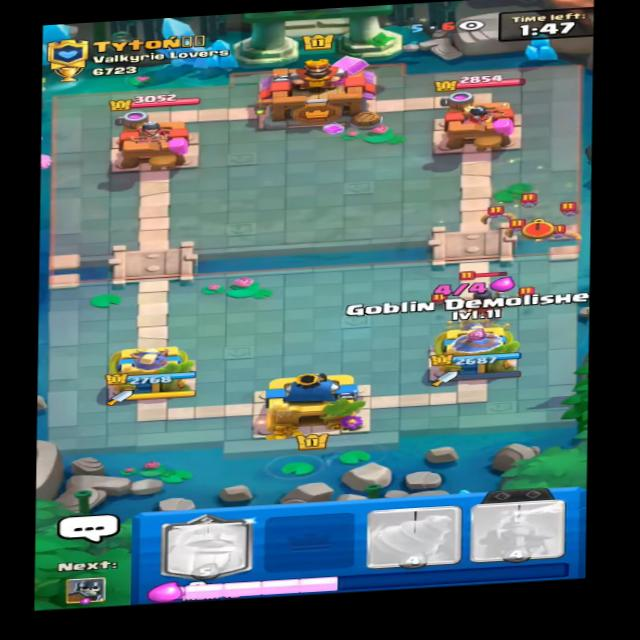bats: (538, 221, 582, 244), (510, 191, 546, 214), (475, 204, 513, 224), (513, 284, 549, 303), (555, 198, 587, 218), (503, 217, 537, 235), (423, 286, 451, 306)
night-witch: (455, 267, 513, 324)
